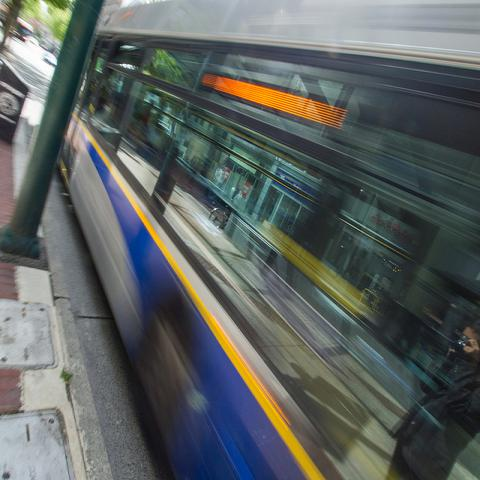bus: (55, 2, 480, 473)
